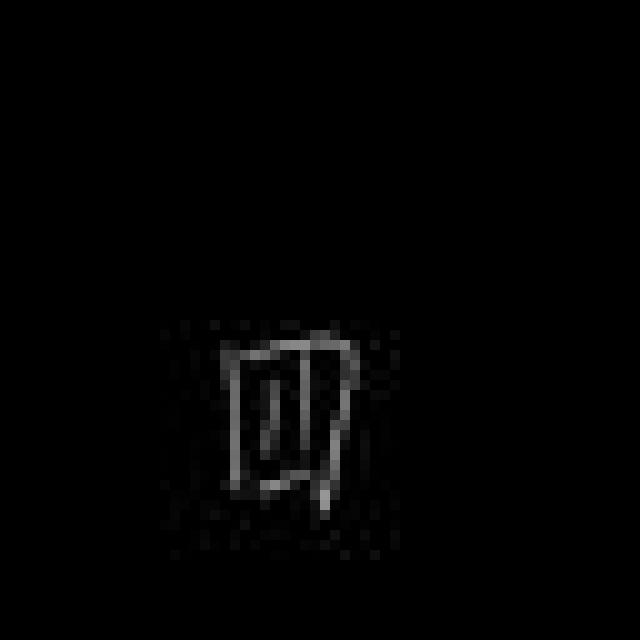4 -four-: (212, 327, 372, 526)
